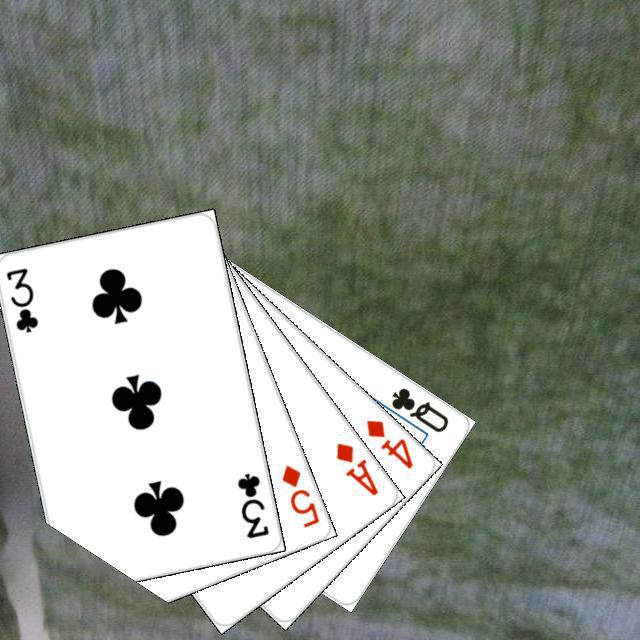3c: (232, 467, 271, 540), (1, 263, 40, 335)
4d: (361, 414, 415, 471)
5d: (276, 460, 321, 530)
Ad: (330, 437, 381, 498)
Qc: (373, 382, 451, 440)
